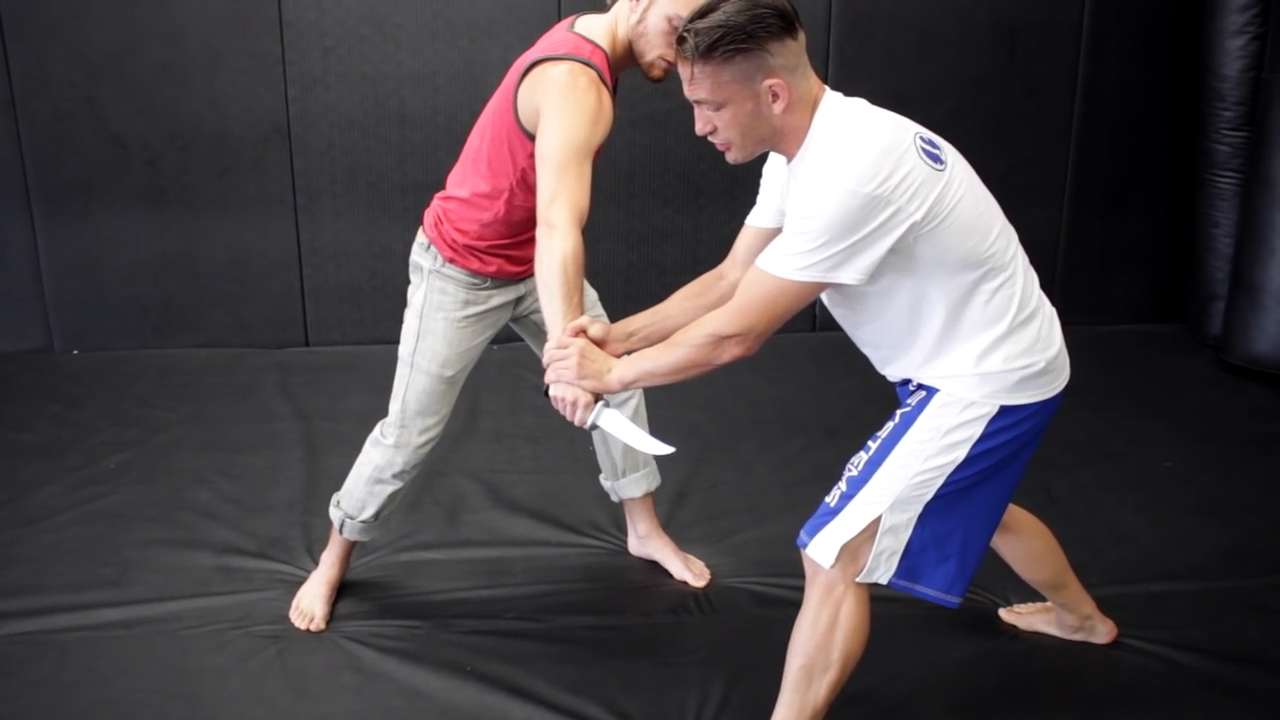knife: (537, 377, 688, 462)
